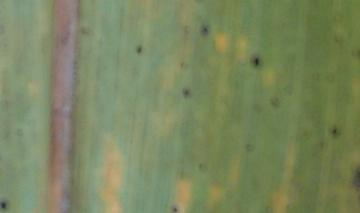tarspot: (351, 167, 360, 191), (200, 25, 211, 36), (330, 126, 339, 137), (182, 88, 191, 97), (254, 56, 260, 67), (136, 44, 142, 54), (1, 201, 8, 208), (173, 205, 179, 213)
